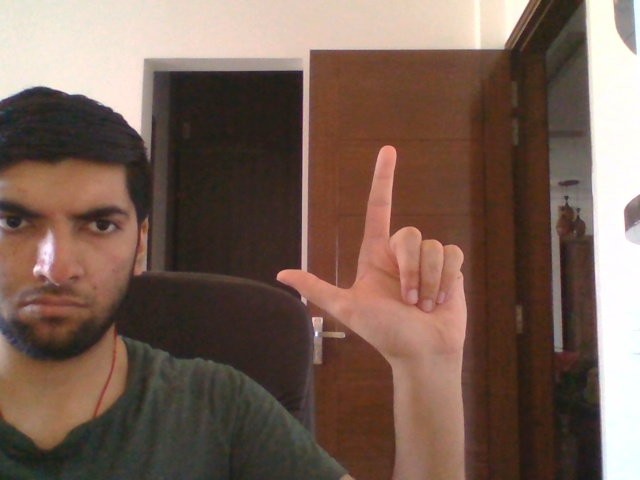LetterL: (275, 144, 468, 364)
